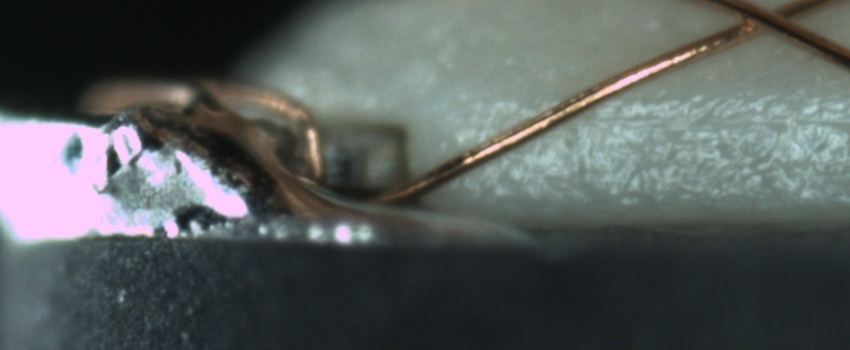CL: (723, 0, 812, 41)
DL: (586, 86, 849, 151)
TE: (195, 63, 330, 189)
